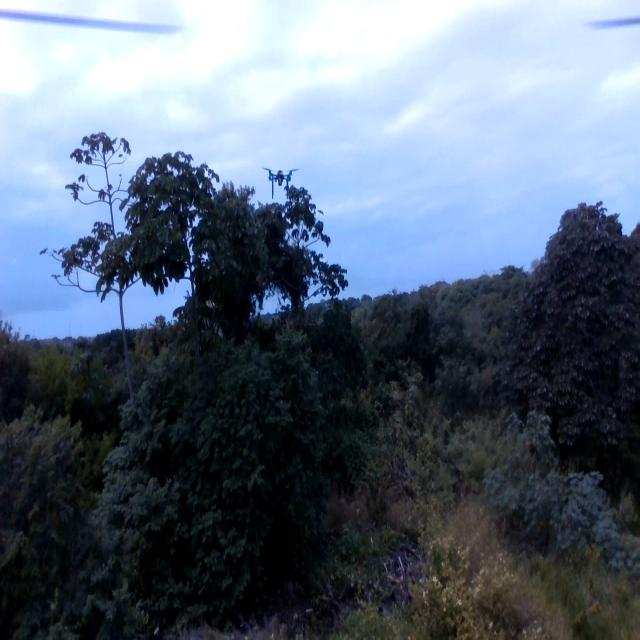-uav-: (259, 159, 306, 200)
